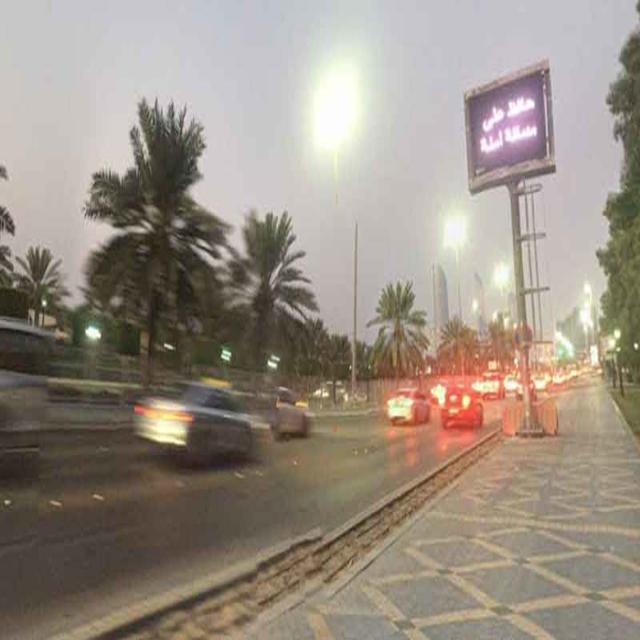car: (129, 379, 257, 466), (250, 380, 308, 444), (438, 384, 484, 428), (386, 387, 431, 425), (310, 381, 342, 409), (480, 372, 504, 400)
